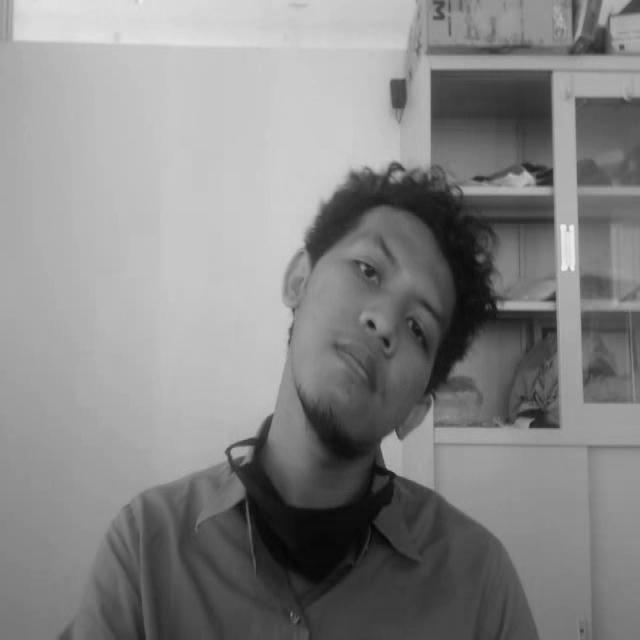real: (270, 146, 502, 472)
